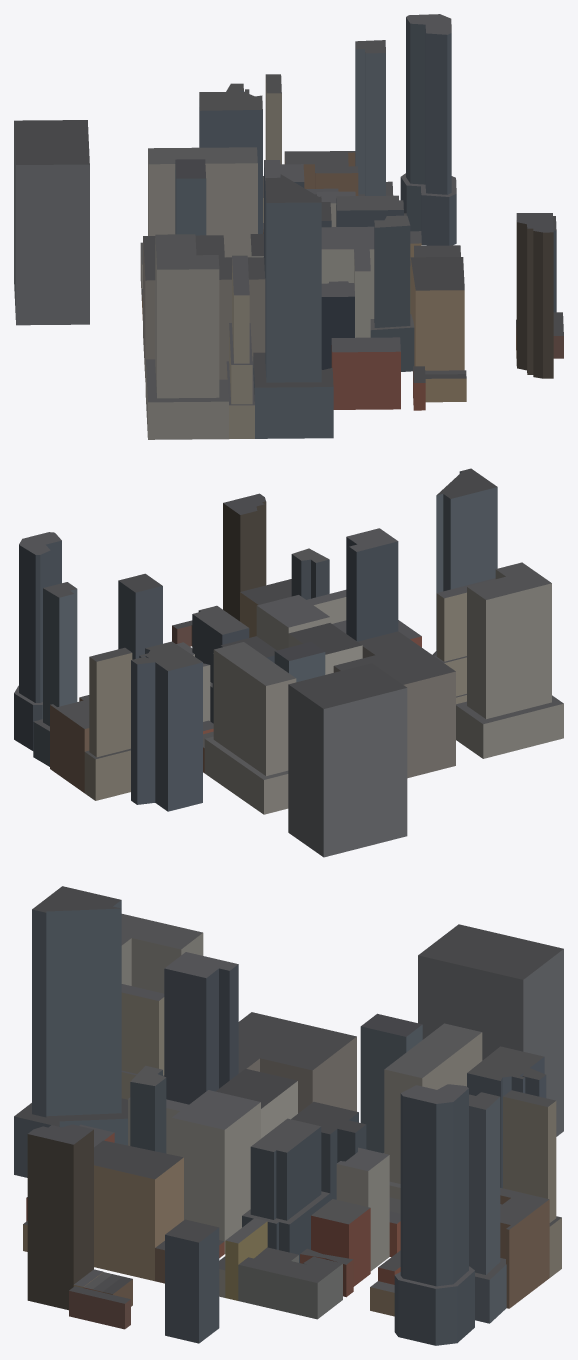
The model's file is 4_-3.far.glb.
3 views of the same model, one above another, from view 1: azimuth 30°, elevation 25°; view 2: azimuth 150°, elevation 25°; view 3: azimuth 270°, elevation 25° (orthographic). The views are drawn at different scales.
Visible parts, largest first — view 1: 4_-3_far; view 2: 4_-3_far; view 3: 4_-3_far.
Boxes of the visible parts, x1,y1,x2,y2 form: 4_-3_far: (14,14,563,439); 4_-3_far: (14,468,563,857); 4_-3_far: (14,886,563,1345).
Size of the model in its own units: 300 by 148 by 280.
